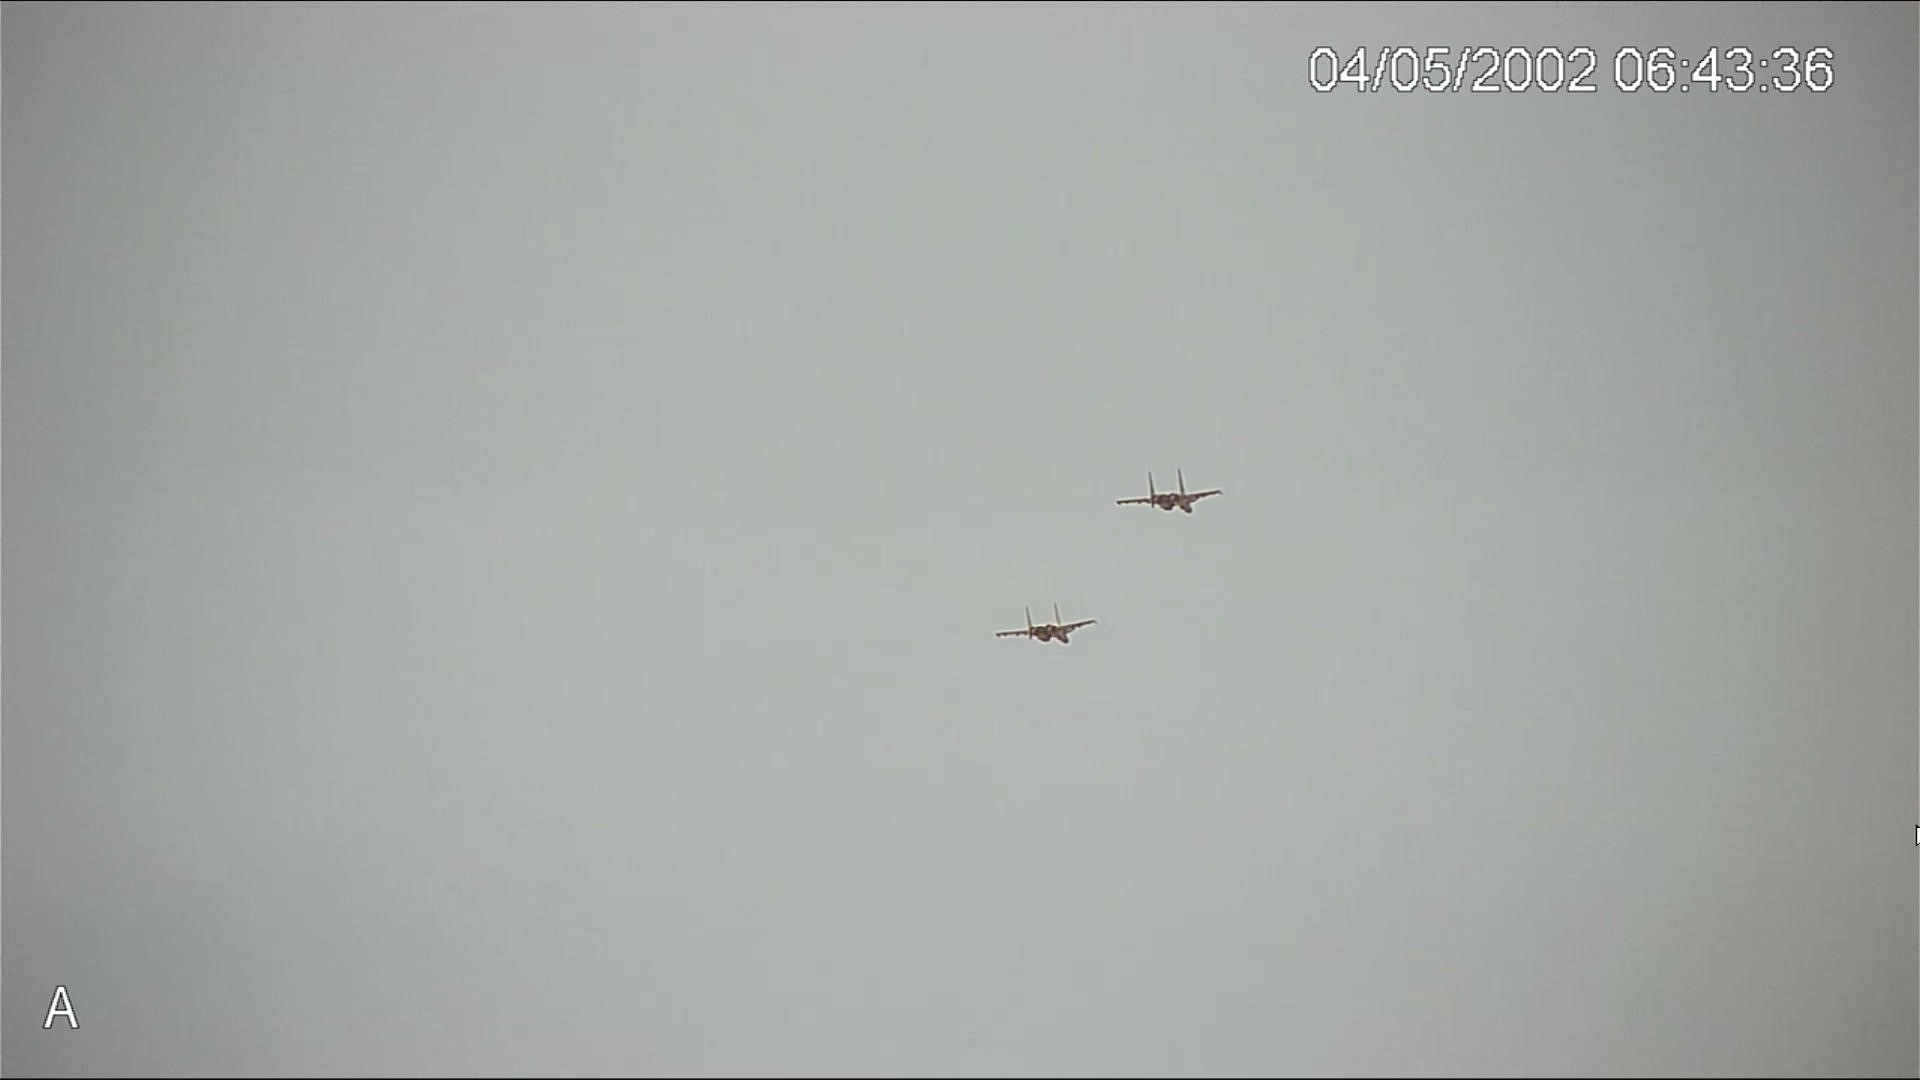SU_30: (1116, 468, 1228, 524), (986, 597, 1097, 646)
